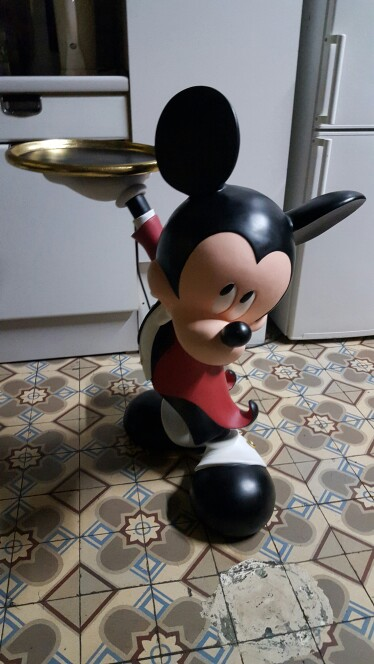Mickey: (136, 83, 366, 367)
